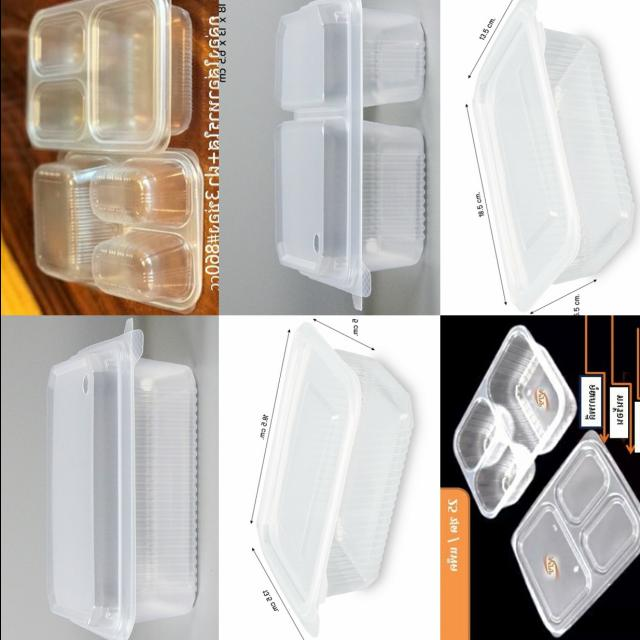plastik: (471, 0, 633, 312), (256, 323, 412, 636), (46, 319, 196, 640), (274, 0, 424, 309), (31, 149, 201, 312), (510, 431, 640, 636), (26, 0, 191, 152), (452, 325, 574, 518)
